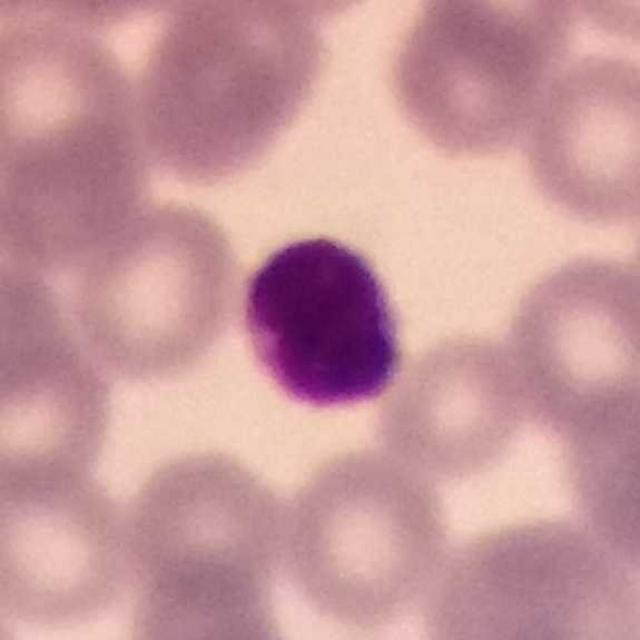Lymphocyte: (230, 224, 418, 421)
RBC: (401, 397, 623, 570), (130, 0, 334, 186), (60, 192, 246, 385), (274, 444, 451, 629), (113, 441, 300, 609), (378, 0, 556, 165), (1, 9, 145, 210), (495, 246, 640, 439), (425, 513, 638, 640), (2, 95, 150, 272), (1, 455, 140, 631), (375, 326, 535, 477), (515, 47, 640, 230), (0, 326, 118, 505), (558, 376, 640, 565), (118, 555, 292, 640), (0, 245, 71, 424), (415, 0, 582, 72), (199, 0, 400, 30), (1, 0, 207, 28), (553, 0, 640, 50)
